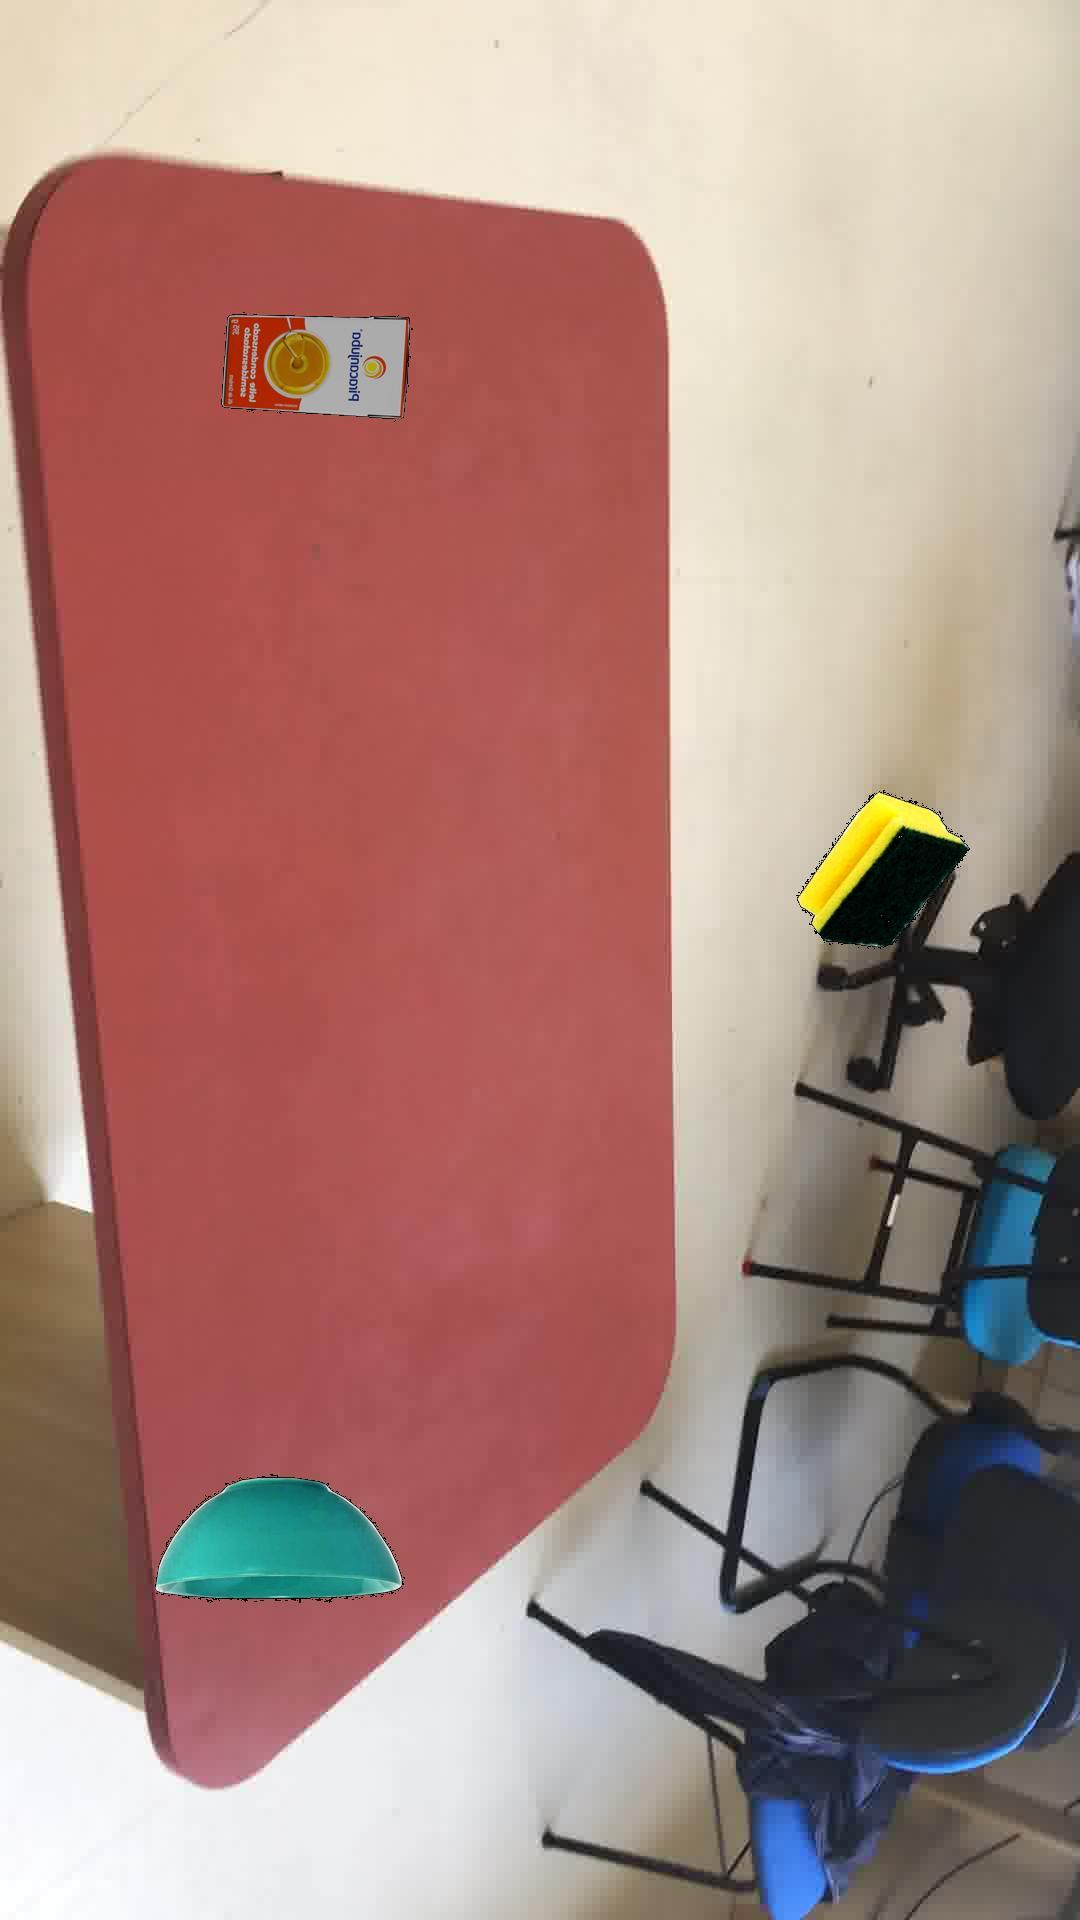bowl: (153, 1473, 402, 1601)
sponge: (794, 789, 968, 948)
